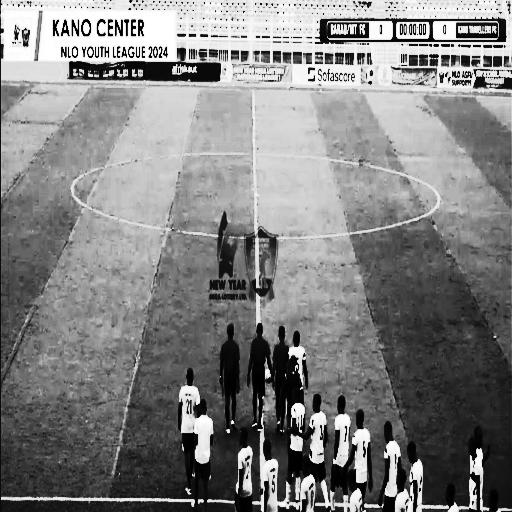ball: (265, 366, 273, 384)
keeper1: (282, 352, 305, 406)
keeper2: (191, 398, 216, 511)
referee: (218, 322, 241, 432), (246, 320, 269, 430), (271, 322, 290, 435)
team1: (286, 385, 399, 468), (288, 320, 310, 379)
team2: (232, 428, 328, 511), (174, 363, 200, 497)
